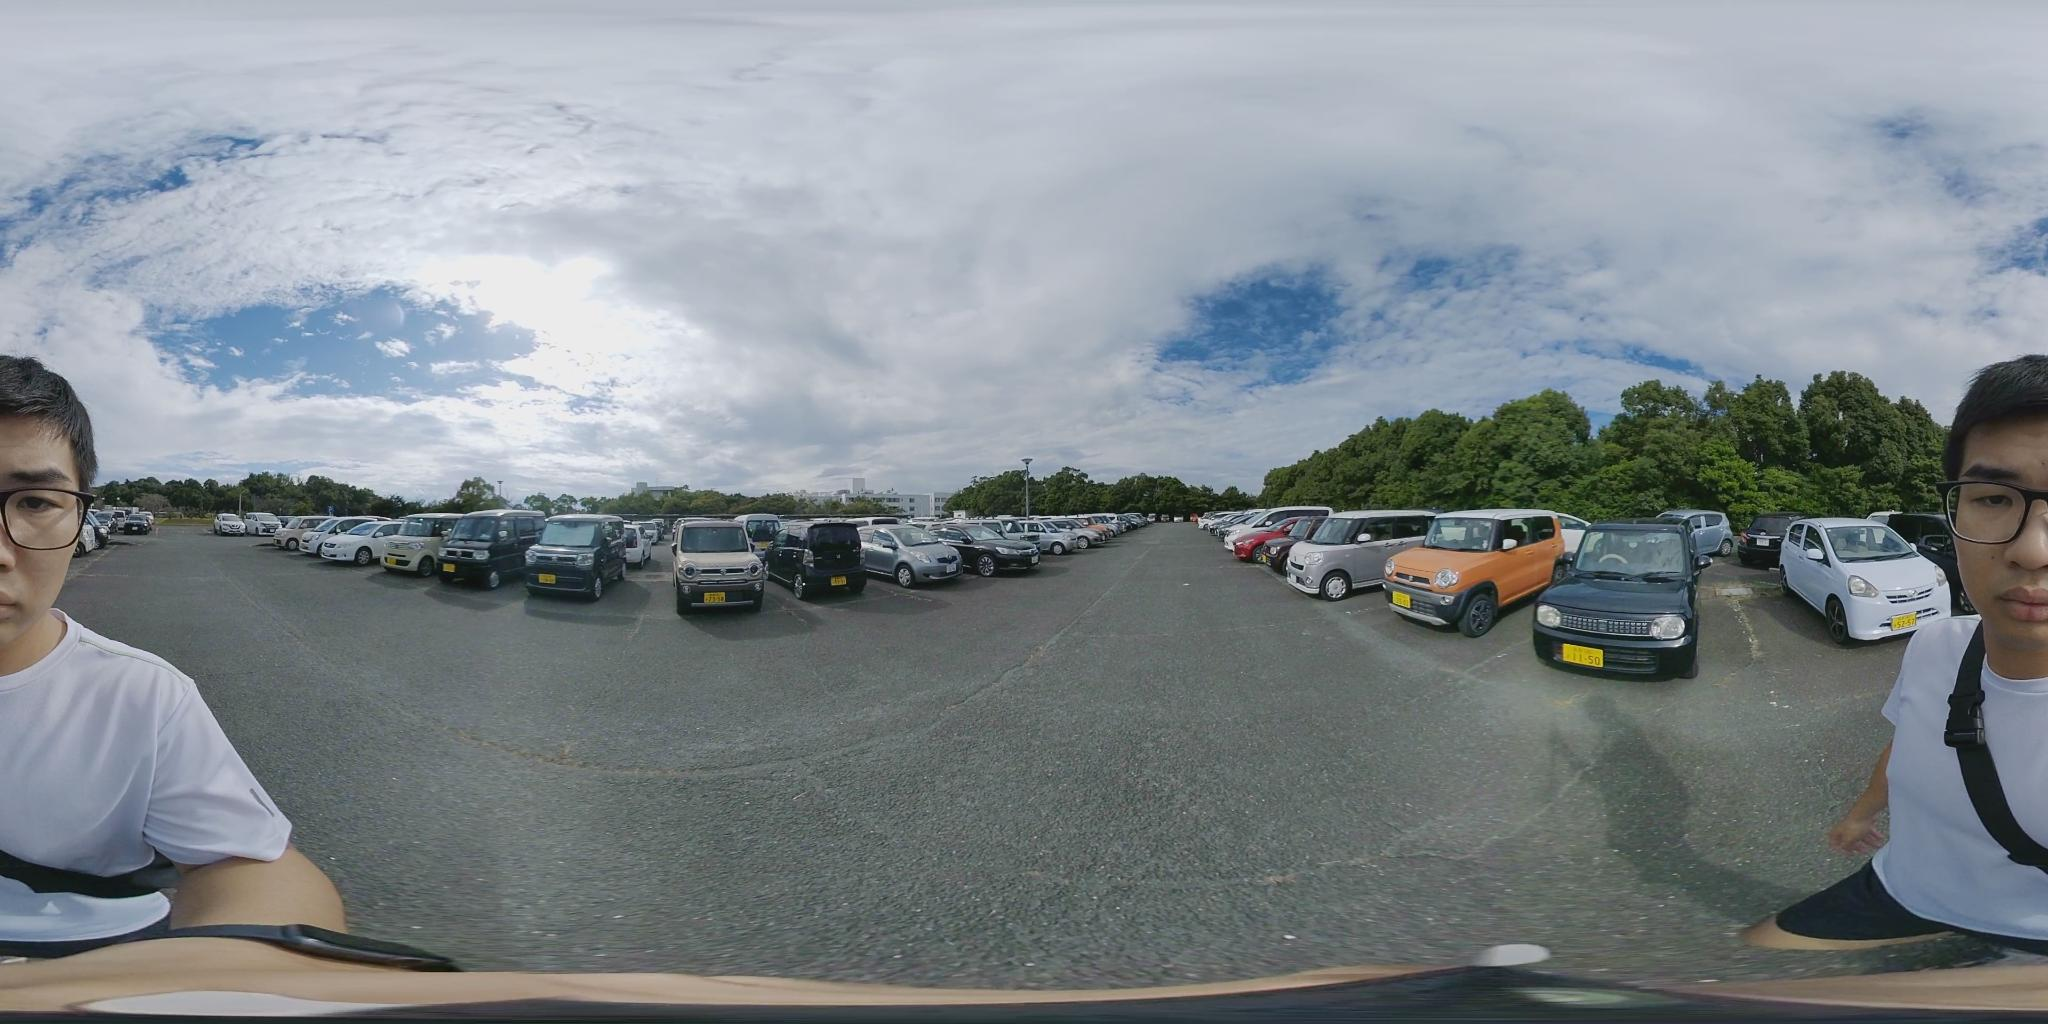car: (1529, 522, 1711, 682), (1382, 509, 1570, 633), (1778, 521, 1954, 645), (1277, 511, 1445, 600), (671, 522, 761, 614), (451, 509, 549, 592), (849, 524, 967, 588), (538, 516, 626, 601), (765, 521, 865, 596), (380, 511, 478, 577), (307, 519, 424, 566), (1230, 508, 1334, 559), (1650, 509, 1733, 562), (89, 507, 152, 533), (272, 517, 320, 550), (208, 516, 268, 538), (111, 512, 159, 537), (239, 516, 291, 538), (210, 513, 247, 533)
